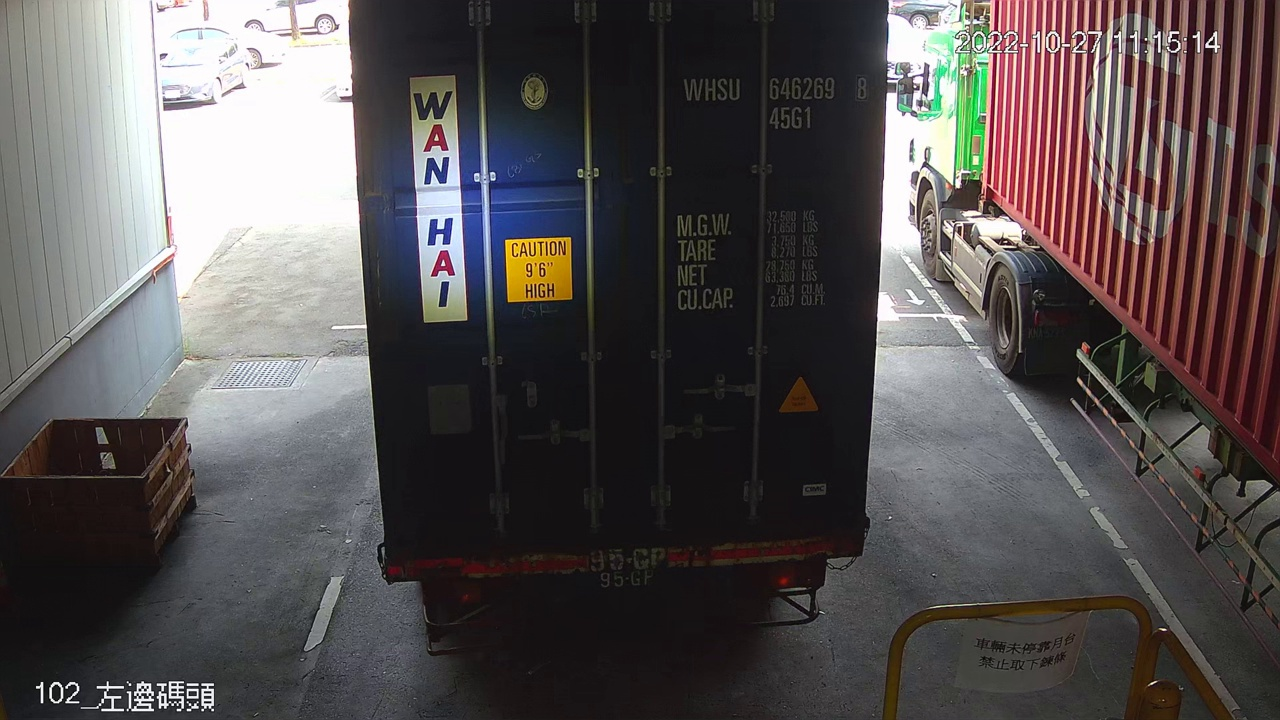container: (679, 68, 876, 137)
